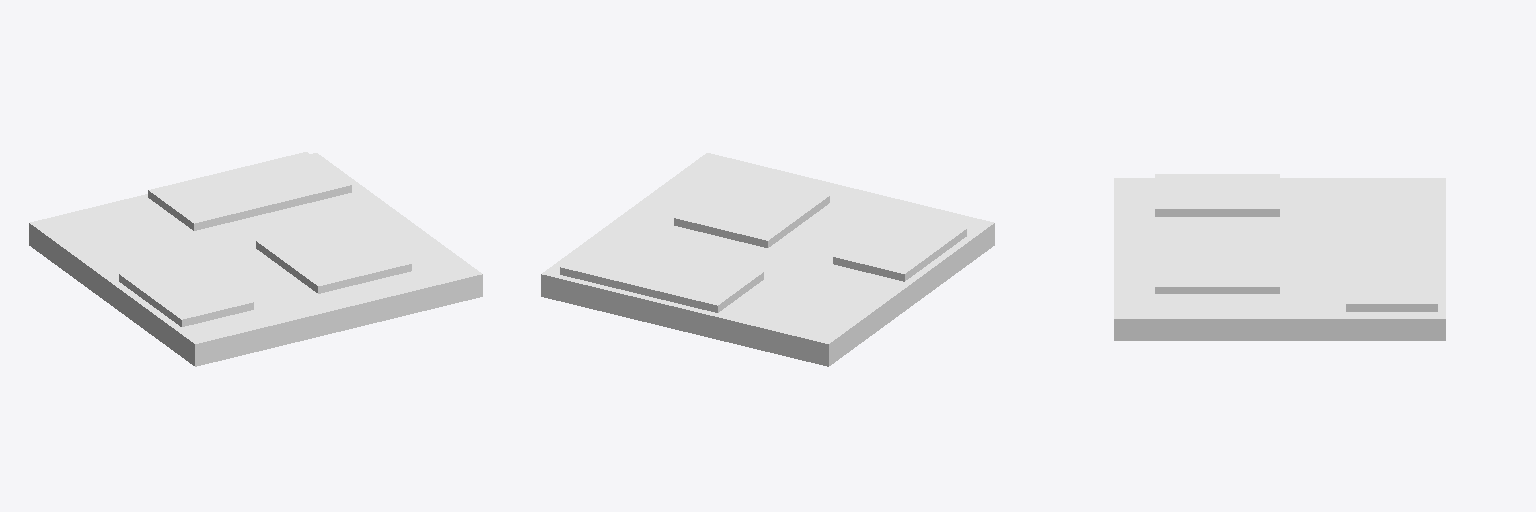
Rendered from moon_tiles-1.obj.
3 renders of one model, left to right at view 1: azimuth 30°, elevation 25°; view 2: azimuth 150°, elevation 25°; view 3: azimuth 270°, elevation 25°, orthographic.
Visible parts, largest first — view 1: object 1; view 2: object 1; view 3: object 1.
Part boxes in pixels (x1,y1,x2,y2): object 1: (29, 152, 482, 366); object 1: (541, 153, 994, 366); object 1: (1114, 174, 1445, 340).
Bounding box in the file's own units: 4 × 0.4 × 4.